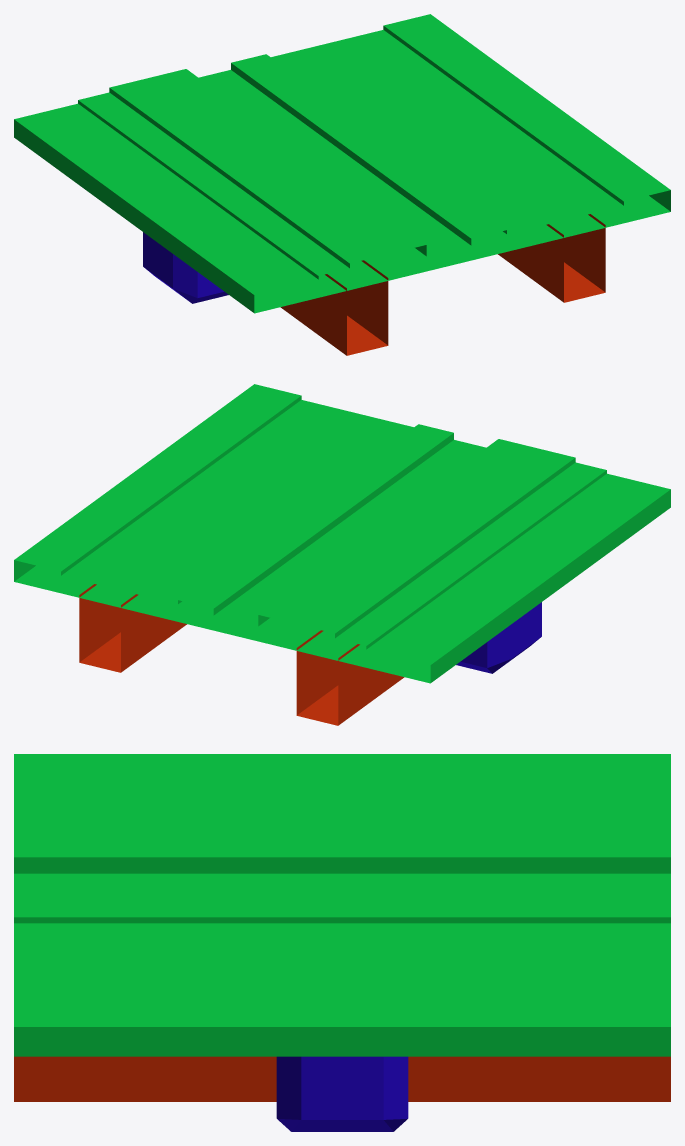
The model's file is SM_Bridge.fbx.
3 views of the same model, one above another, from view 1: azimuth 30°, elevation 25°; view 2: azimuth 150°, elevation 25°; view 3: azimuth 270°, elevation 25° (orthographic). The views are drawn at different scales.
Visible parts, largest first — view 1: bridge; view 2: bridge; view 3: bridge.
Boxes of the visible parts, box(x1,y1,x2,y2) form: bridge: box(14, 14, 670, 355); bridge: box(14, 384, 670, 725); bridge: box(14, 754, 670, 1131).
Size of the model in its own units: 100 by 23.17 by 100.
